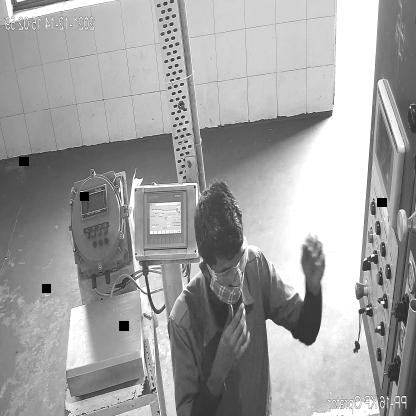goggles: (209, 242, 251, 284)
